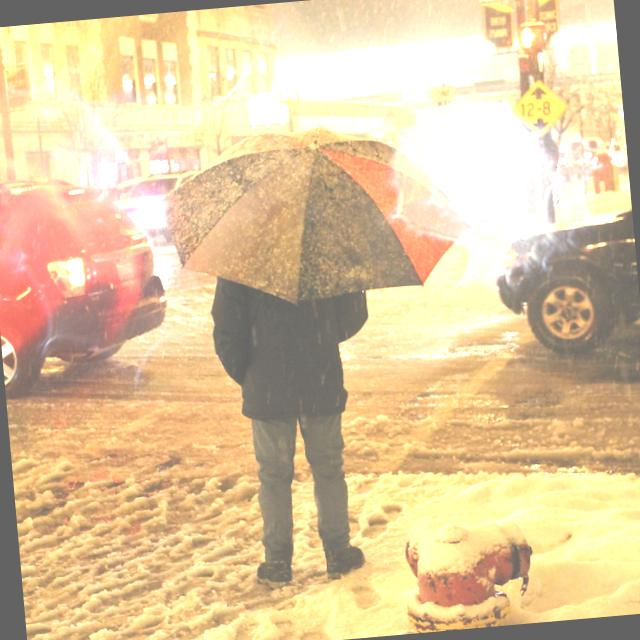Vehicle: (0, 166, 172, 395), (0, 167, 170, 396), (484, 182, 640, 365), (117, 168, 204, 244), (569, 136, 610, 180), (489, 147, 523, 178)
